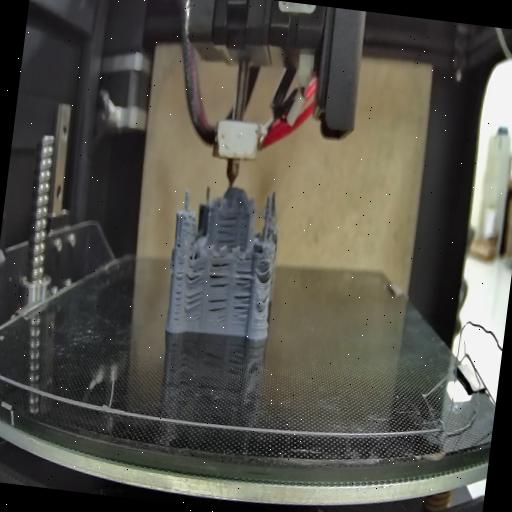cracks: (230, 266, 256, 324), (216, 210, 240, 250), (170, 264, 186, 322), (207, 260, 232, 290), (206, 293, 230, 324), (184, 263, 207, 288), (184, 291, 204, 314), (257, 262, 273, 285), (256, 289, 270, 315), (177, 236, 183, 250)
